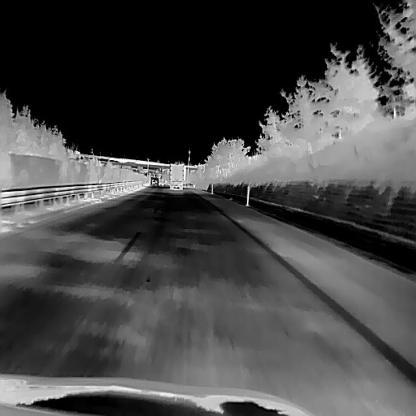car: (167, 163, 184, 189)
